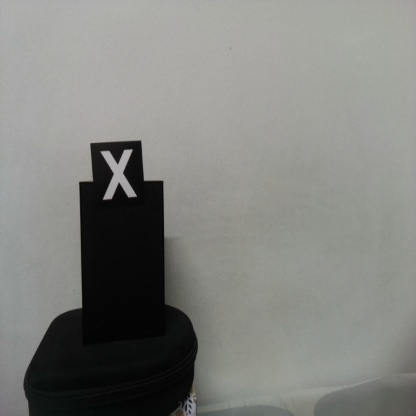id_13: (91, 141, 145, 212)
